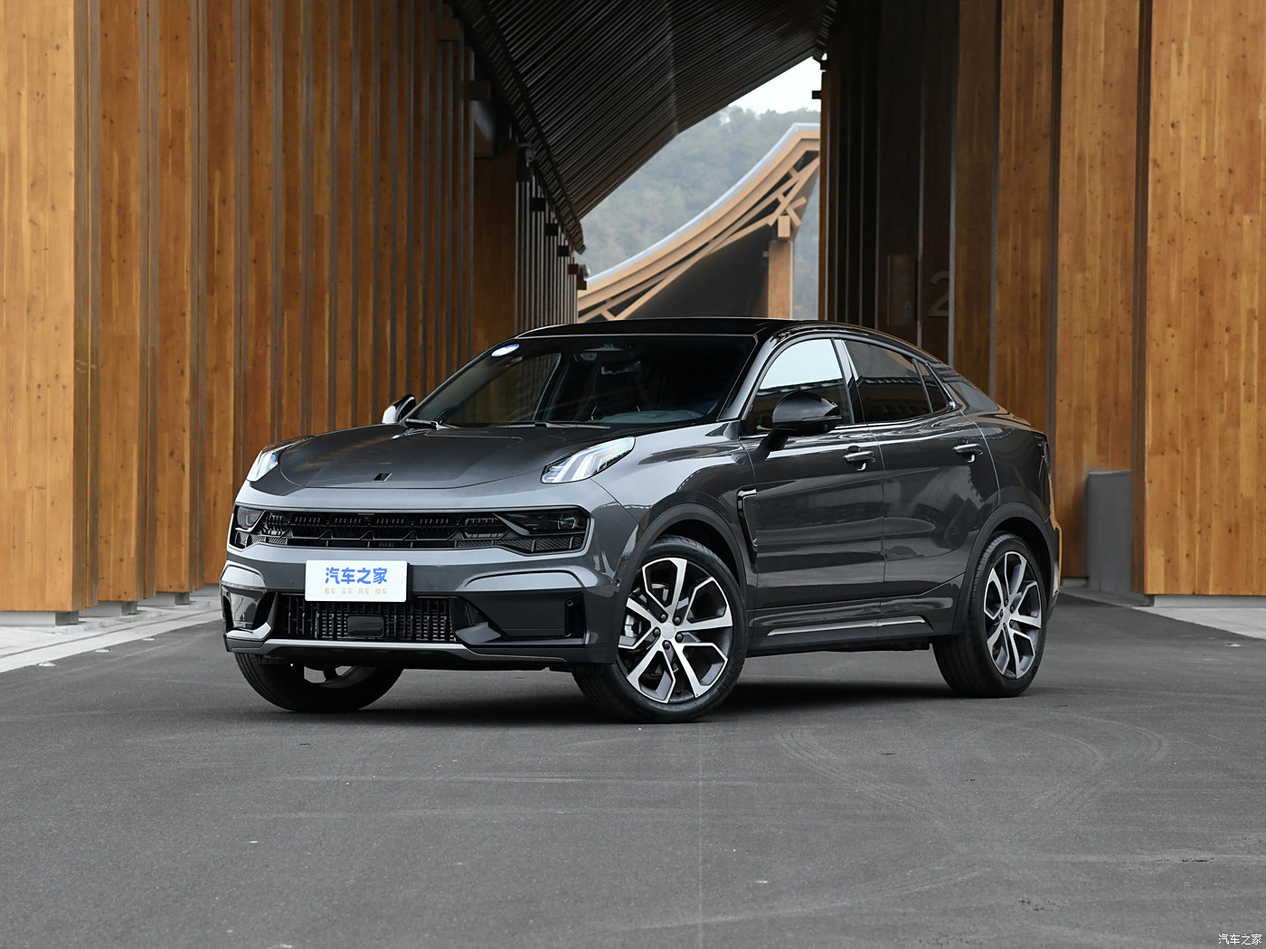LINK&CO: (373, 473, 392, 482)
